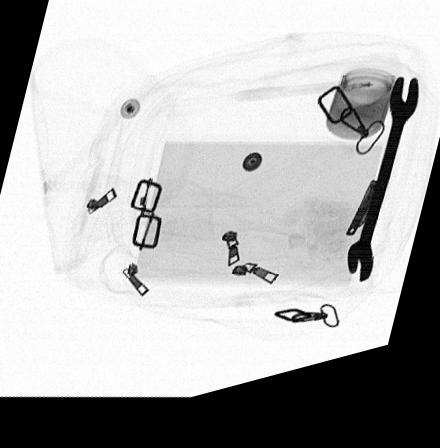Wrench: (345, 96, 421, 305)
